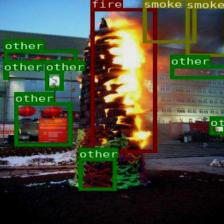fire: (90, 8, 156, 152)
smoke: (142, 0, 195, 42), (185, 0, 224, 56)
